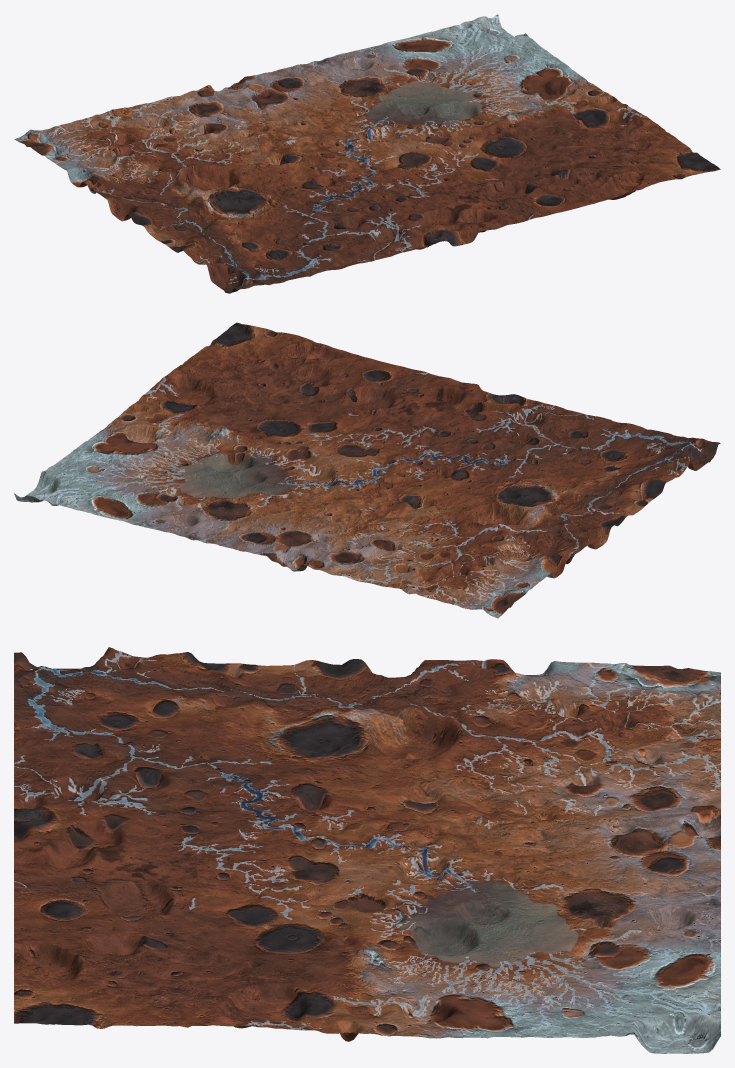
The model's file is mars_BezierCircle_14_surface.glb.
The picture shows the model from 3 angles, top to bottom: view 1: azimuth 30°, elevation 25°; view 2: azimuth 150°, elevation 25°; view 3: azimuth 270°, elevation 25°; orthographic projection. The views are drawn at different scales.
Parts seen in each view (by area): view 1: node_4f011479_bb23_4c61_9ccc_72858f7497f3_mesh0; view 2: node_4f011479_bb23_4c61_9ccc_72858f7497f3_mesh0; view 3: node_4f011479_bb23_4c61_9ccc_72858f7497f3_mesh0.
Boxes of the visible parts, x1=… form: node_4f011479_bb23_4c61_9ccc_72858f7497f3_mesh0: x1=14, y1=14, x2=720, y2=293; node_4f011479_bb23_4c61_9ccc_72858f7497f3_mesh0: x1=14, y1=322, x2=720, y2=618; node_4f011479_bb23_4c61_9ccc_72858f7497f3_mesh0: x1=14, y1=647, x2=720, y2=1053.
Size of the model in its own units: 100 by 4.95 by 79.69.
Materials: 1 (1 with a texture image).
